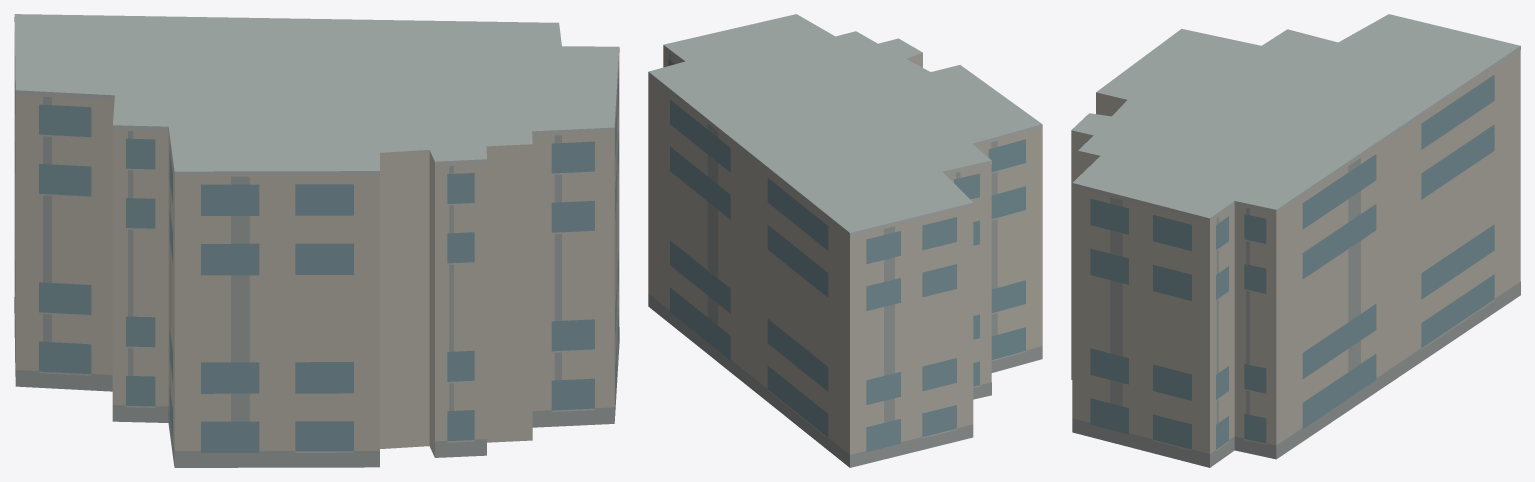
The model's file is survey-upis-32894994.glb.
3 views of the same model, side by side, from view 1: azimuth 30°, elevation 25°; view 2: azimuth 150°, elevation 25°; view 3: azimuth 270°, elevation 25° (orthographic). The views are drawn at different scales.
Parts seen in each view (by area): view 1: survey-upis-32894994.tmp; view 2: survey-upis-32894994.tmp; view 3: survey-upis-32894994.tmp.
Boxes of the visible parts, <box> form: survey-upis-32894994.tmp: <box>14,14,619,467</box>; survey-upis-32894994.tmp: <box>648,14,1042,467</box>; survey-upis-32894994.tmp: <box>1071,14,1520,467</box>.
Bounding box in the file's own units: 24.25 × 13.8 × 22.54.
